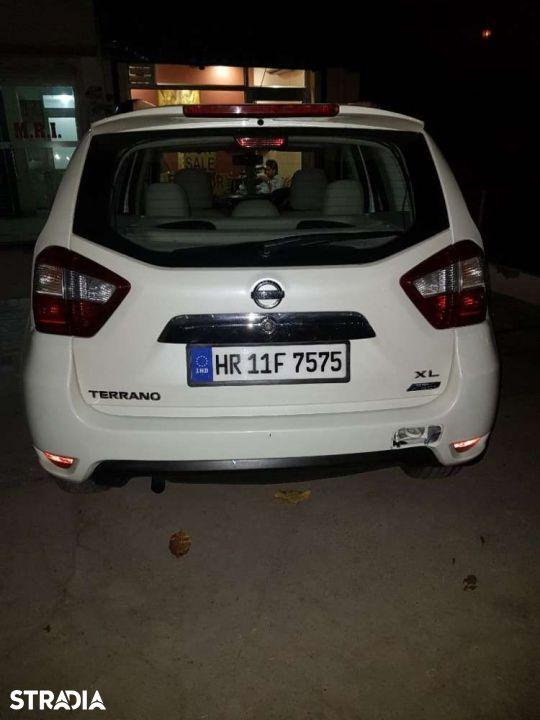licence-plate: (182, 345, 351, 382)
